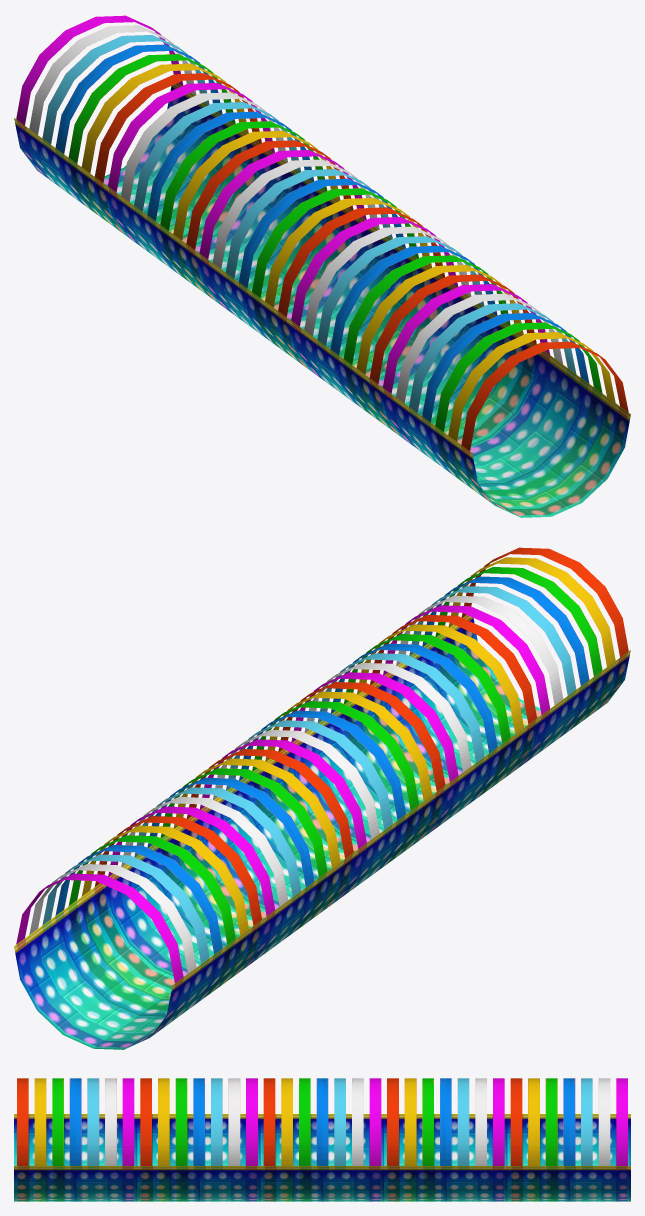
3 views of the same model, one above another, from view 1: azimuth 30°, elevation 25°; view 2: azimuth 150°, elevation 25°; view 3: azimuth 270°, elevation 25° (orthographic). The views are drawn at different scales.
Parts seen in each view (by area): view 1: mmGroup1, mmGroup0; view 2: mmGroup1, mmGroup0; view 3: mmGroup1, mmGroup0.
Boxes of the visible parts, box(x1,y1,x2,y2) form: mmGroup1: box(16, 15, 628, 450); mmGroup0: box(14, 83, 630, 517); mmGroup1: box(16, 547, 628, 982); mmGroup0: box(14, 615, 630, 1049); mmGroup1: box(17, 1078, 627, 1165); mmGroup0: box(14, 1114, 630, 1201).
Size of the model in its own units: 0.9375 by 0.9375 by 4.69.
